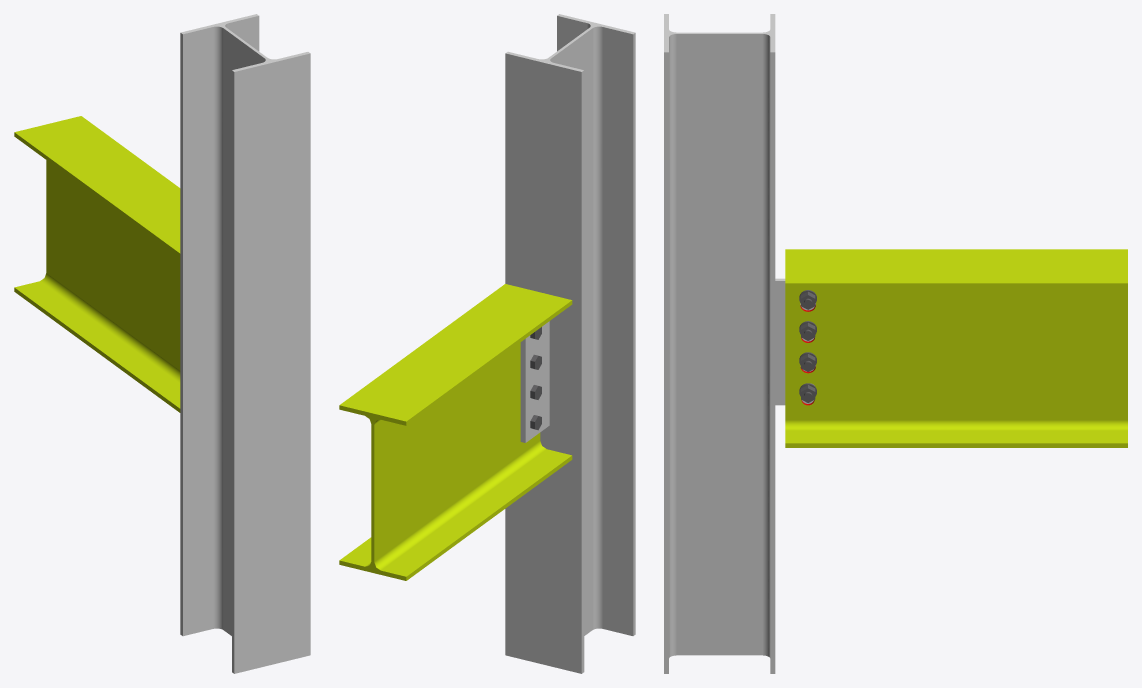
File: 6-Bearing and Tearout at the Web.glb
3 views of the same model, side by side, from view 1: azimuth 30°, elevation 25°; view 2: azimuth 150°, elevation 25°; view 3: azimuth 270°, elevation 25° (orthographic). The views are drawn at different scales.
Parts seen in each view (by area): view 1: W-Wide Flange-Column W10X33 (1) [1245414], W-Wide Flange W16X36 (1) [1518880]; view 2: W-Wide Flange-Column W10X33 (1) [1245414], W-Wide Flange W16X36 (1) [1518880], [1715115], [1715117]; view 3: W-Wide Flange-Column W10X33 (1) [1245414], W-Wide Flange W16X36 (1) [1518880], [1715115], [1715117].
Part boxes in pixels (left/top/right/bottom): W-Wide Flange-Column W10X33 (1) [1245414]: left=180, top=14, right=310, bottom=673; W-Wide Flange W16X36 (1) [1518880]: left=14, top=116, right=180, bottom=412; W-Wide Flange-Column W10X33 (1) [1245414]: left=505, top=14, right=635, bottom=673; W-Wide Flange W16X36 (1) [1518880]: left=339, top=284, right=572, bottom=580; [1715115]: left=520, top=321, right=549, bottom=442; [1715117]: left=530, top=327, right=541, bottom=430; W-Wide Flange-Column W10X33 (1) [1245414]: left=664, top=14, right=775, bottom=673; W-Wide Flange W16X36 (1) [1518880]: left=785, top=249, right=1127, bottom=447; [1715115]: left=775, top=278, right=815, bottom=405; [1715117]: left=799, top=290, right=816, bottom=402.
Bounding box in the file's own units: 0.2022 × 1.52 × 1.03.
